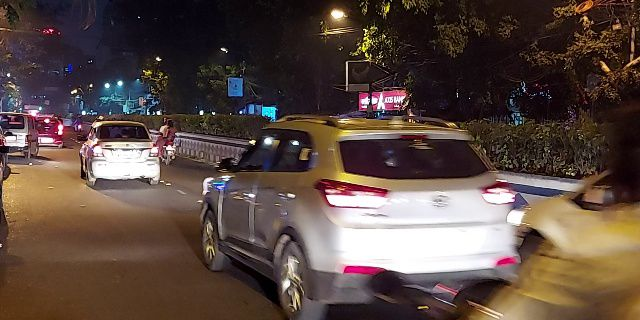Car: (203, 118, 505, 286), (81, 119, 166, 195)
